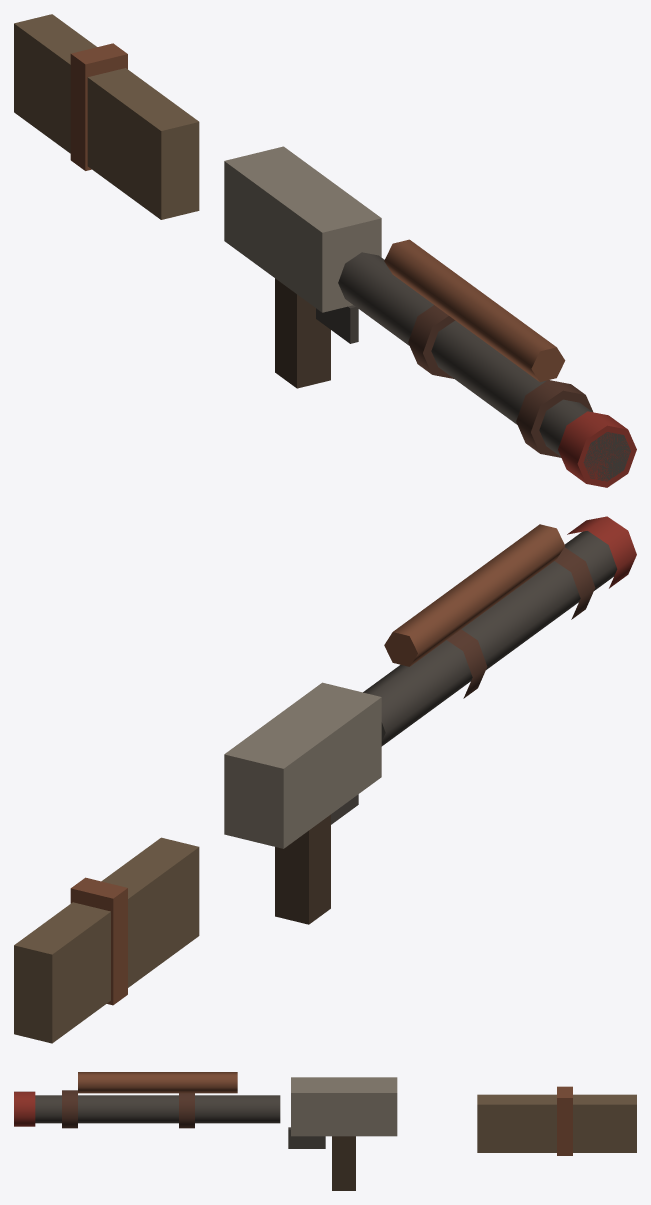
3 renders of one model, top to bottom at view 1: azimuth 30°, elevation 25°; view 2: azimuth 150°, elevation 25°; view 3: azimuth 270°, elevation 25°, orthographic. The views are drawn at different scales.
Visible parts, largest first — view 1: raider_weapon_pipe_gun; view 2: raider_weapon_pipe_gun; view 3: raider_weapon_pipe_gun.
Boxes of the visible parts, x1,y1,x2,y2 form: raider_weapon_pipe_gun: (14, 14, 636, 487); raider_weapon_pipe_gun: (14, 516, 636, 1043); raider_weapon_pipe_gun: (14, 1072, 636, 1190).
Bounding box in the file's own units: 0.076 × 0.2323 × 1.17.
